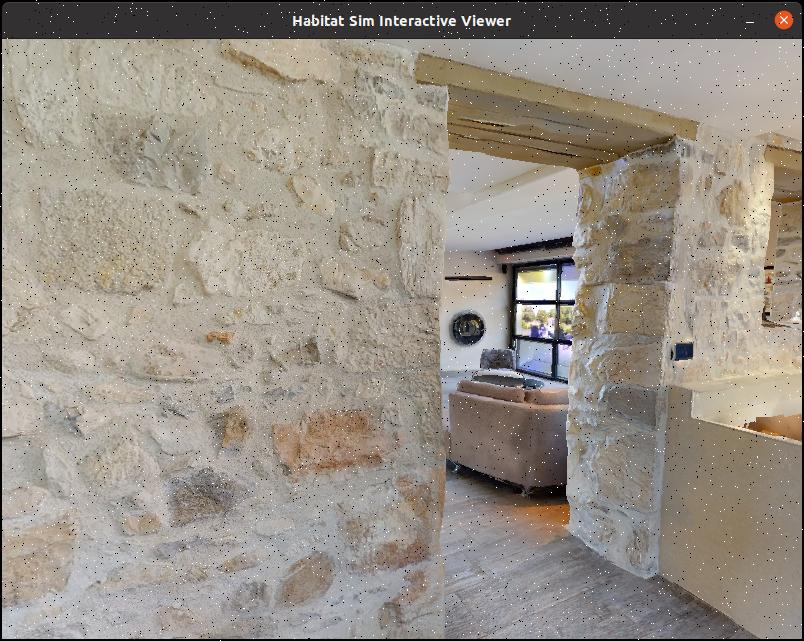door-frame: (413, 65, 678, 601)
